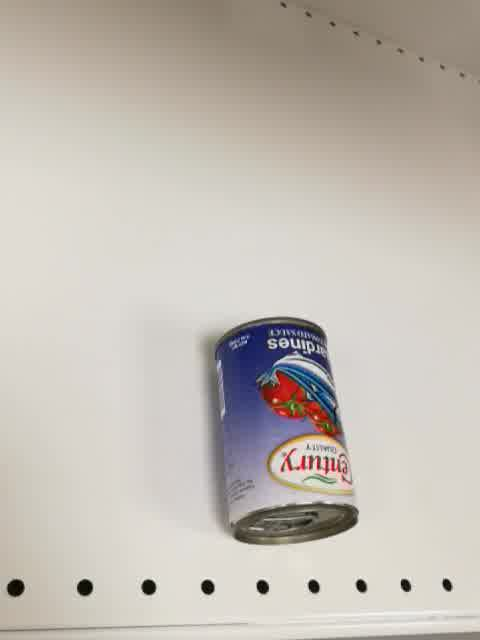sardine: (213, 315, 360, 547)
